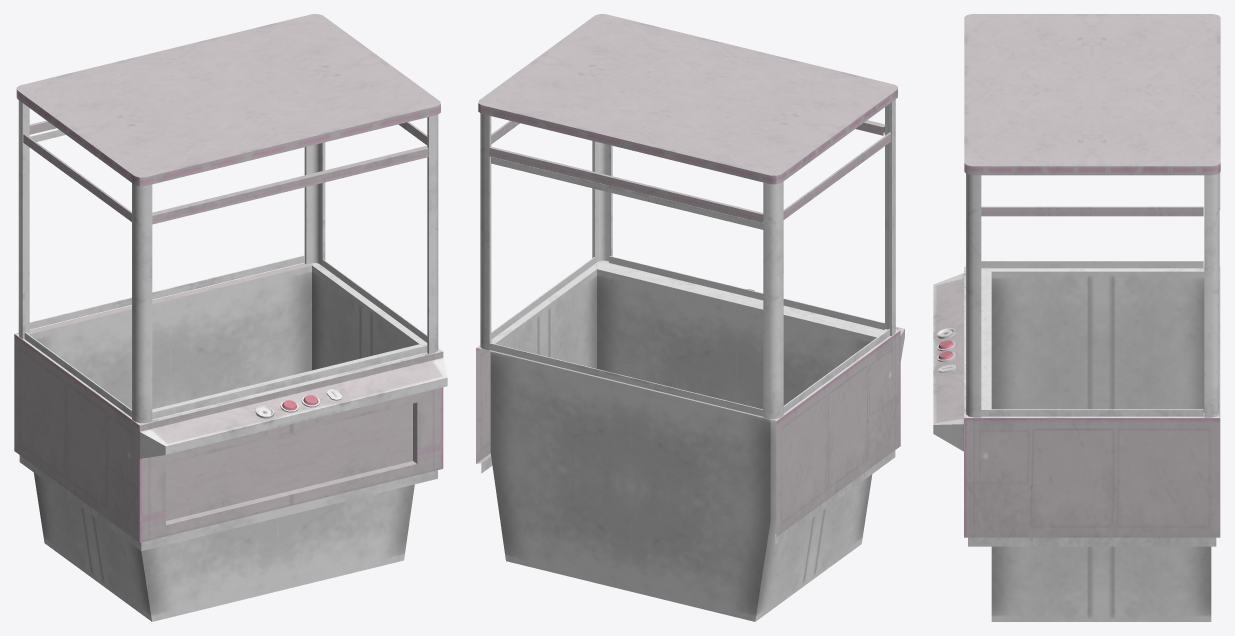
The model's file is Game_base_01.fbx.
The picture shows the model from 3 angles, left to right: view 1: azimuth 30°, elevation 25°; view 2: azimuth 150°, elevation 25°; view 3: azimuth 270°, elevation 25°; orthographic projection. The views are drawn at different scales.
Parts seen in each view (by area): view 1: Game_base01; view 2: Game_base01; view 3: Game_base01.
Part boxes in pixels (x1,y1,x2,y2): Game_base01: [14, 14, 447, 621]; Game_base01: [476, 14, 904, 621]; Game_base01: [933, 14, 1220, 621].
Size of the model in its own units: 153 by 220 by 122.
1 material, 1 textured.
